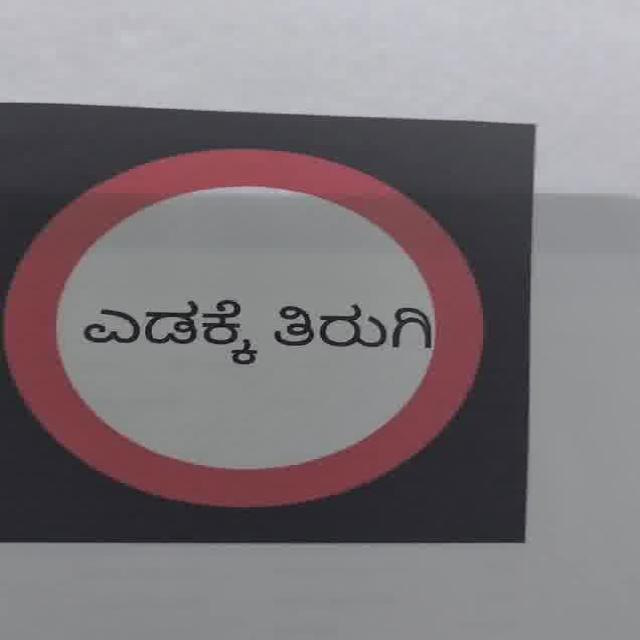kannadleft: (2, 149, 488, 509), (71, 273, 443, 378), (73, 280, 265, 368)
